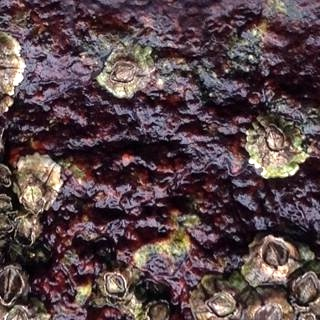Barnacle: (261, 242, 289, 269), (295, 275, 319, 306), (0, 271, 23, 302), (208, 293, 233, 319), (25, 184, 48, 212), (110, 64, 138, 84), (105, 273, 127, 298), (17, 219, 36, 246), (255, 301, 283, 319), (266, 129, 284, 153), (147, 302, 168, 319), (0, 167, 13, 186), (0, 196, 13, 214), (0, 236, 13, 251), (0, 218, 12, 233)
